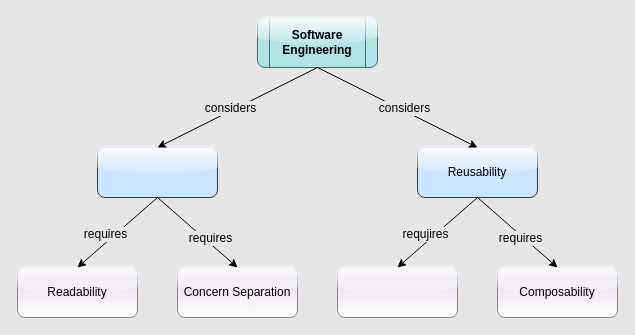
The diagram is 635 pixels wide and 335 high, and some of its shapes have lost their labels. The centre of each missing label's shape, as x and y in pixels:
"Functionality Abstraction" goes at [397,292].
"Maintainability" goes at [157,172].
